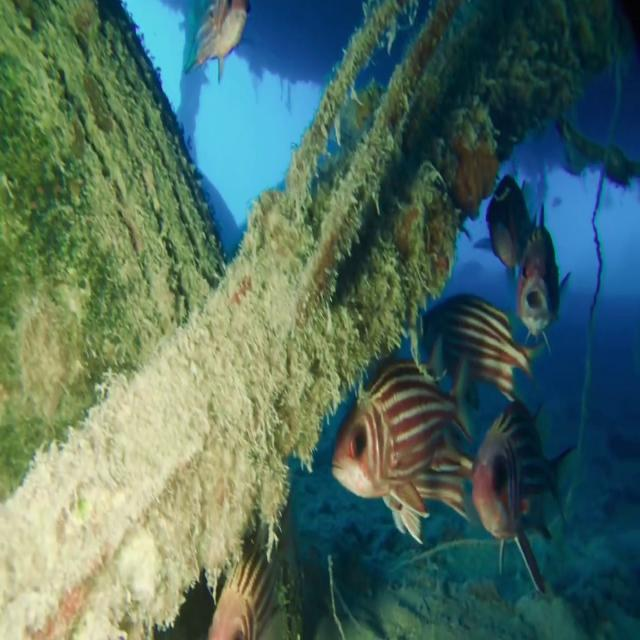Asker Baligi: (330, 354, 472, 519), (464, 397, 574, 569), (424, 294, 528, 380), (513, 202, 557, 370)
